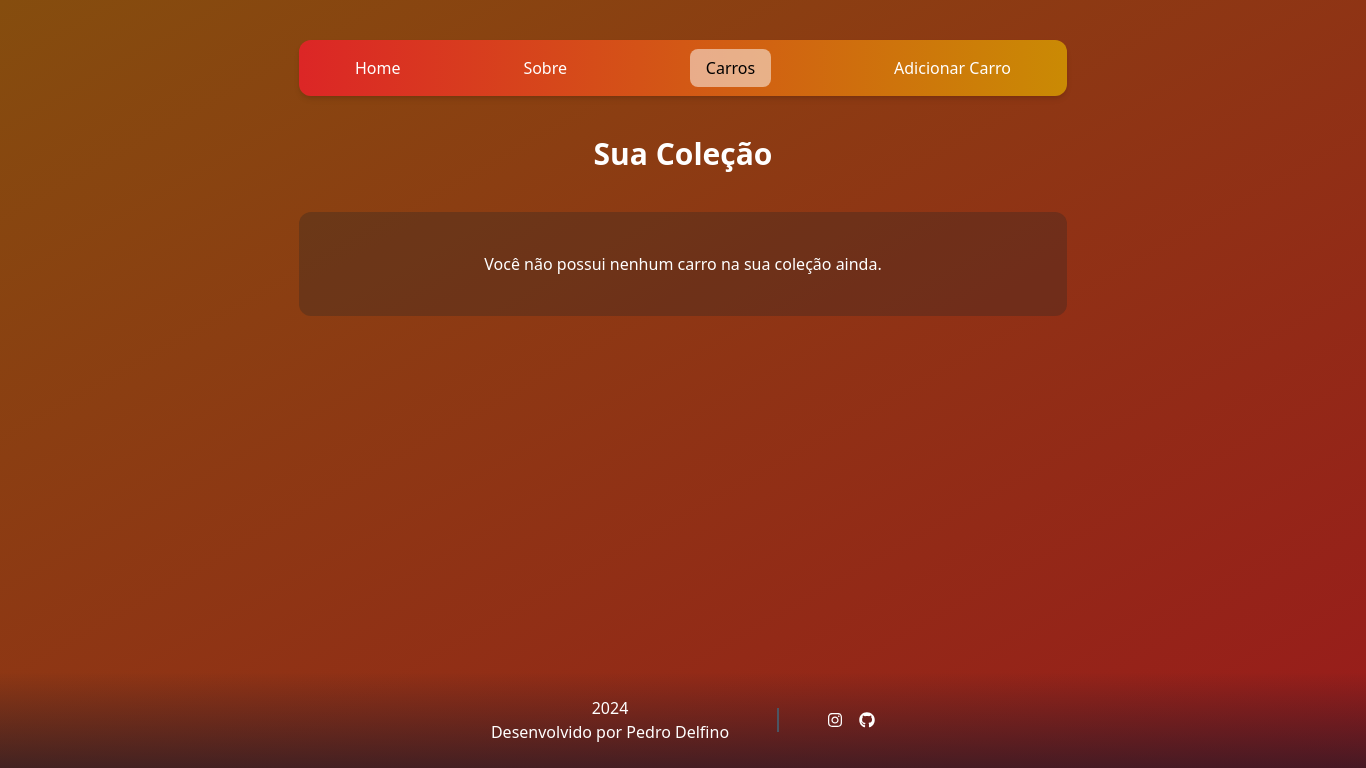
Scenario: App Navigation › should navigate to Add Car page
The image size is (1366, 768).
Click the link to "/add-carro" at {"x": 953, "y": 68}, box [894, 57, 1011, 79]
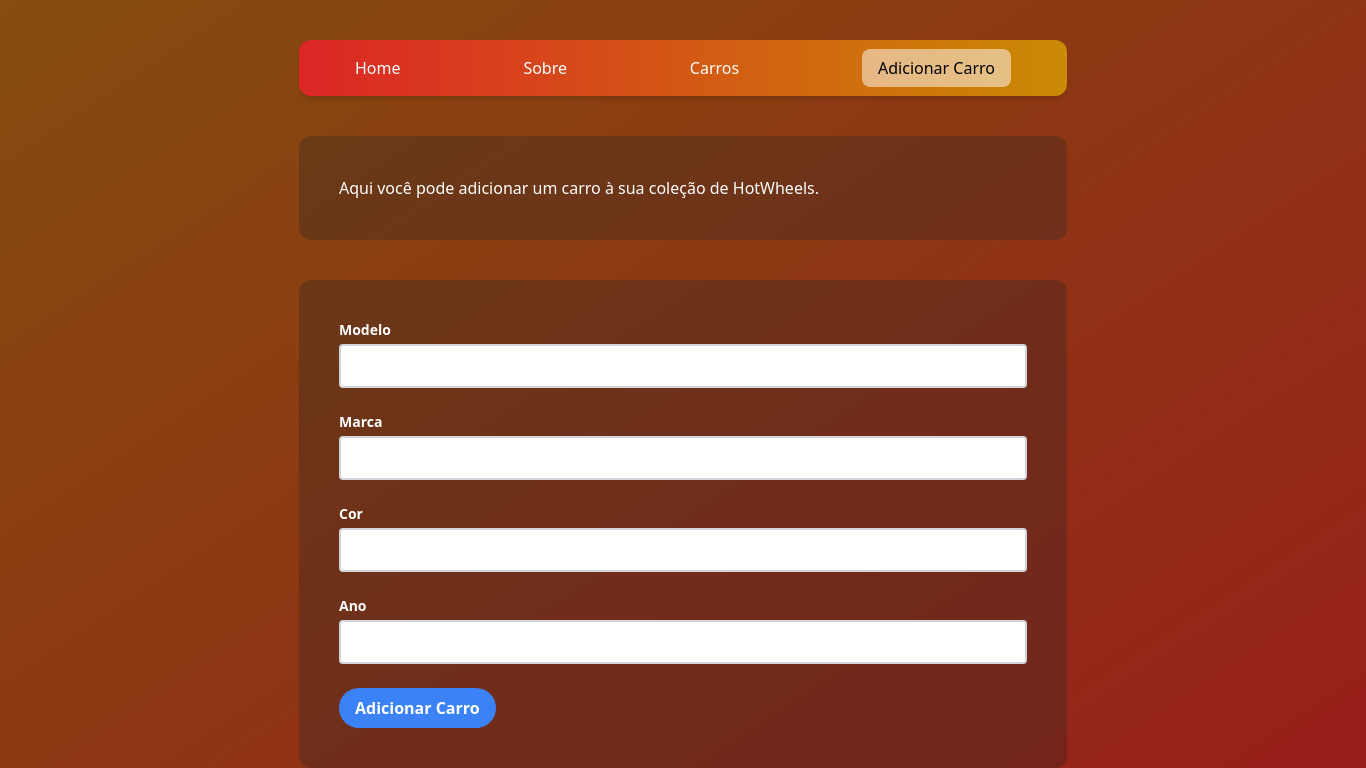
Result: the text "Aqui você pode adicionar um carro à sua coleção de HotWheels." is shown at [339, 177, 819, 199]
